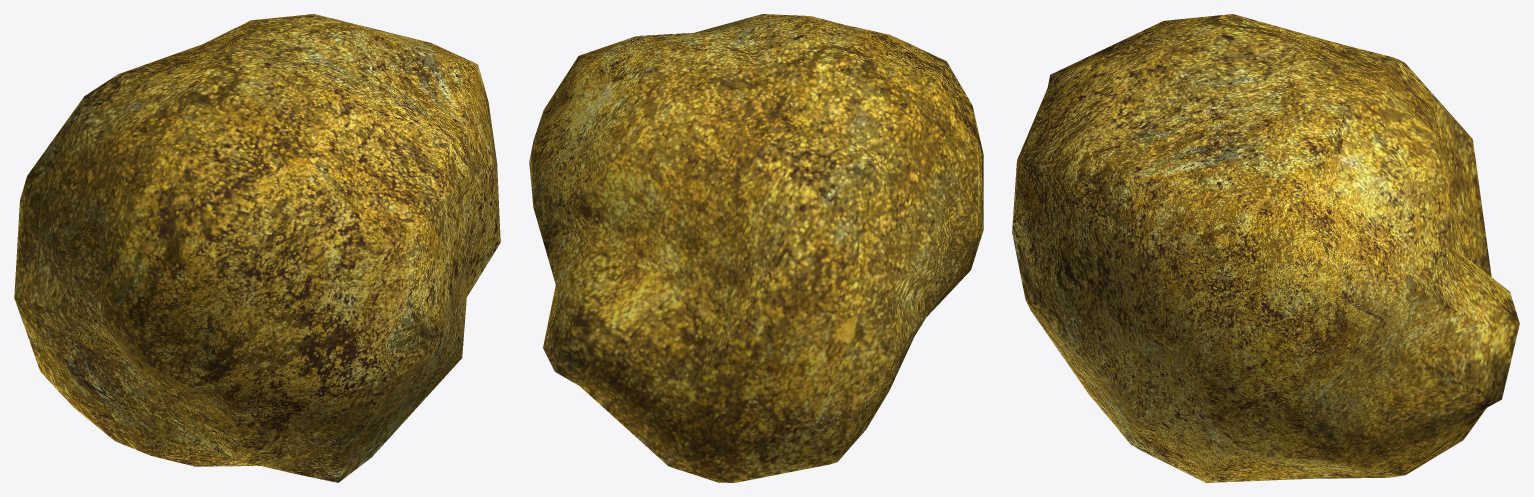
File: goldOre.dae
3 renders of one model, left to right at view 1: azimuth 30°, elevation 25°; view 2: azimuth 150°, elevation 25°; view 3: azimuth 270°, elevation 25°, orthographic. The views are drawn at different scales.
Visible parts, largest first — view 1: GoldNugget3; view 2: GoldNugget3; view 3: GoldNugget3.
Boxes of the visible parts, x1=… form: GoldNugget3: x1=14, y1=14, x2=500, y2=482; GoldNugget3: x1=529, y1=14, x2=983, y2=482; GoldNugget3: x1=1012, y1=14, x2=1519, y2=482.
Size of the model in its own units: 2.1 by 2.17 by 2.01.
Materials: 1 (1 with a texture image).
